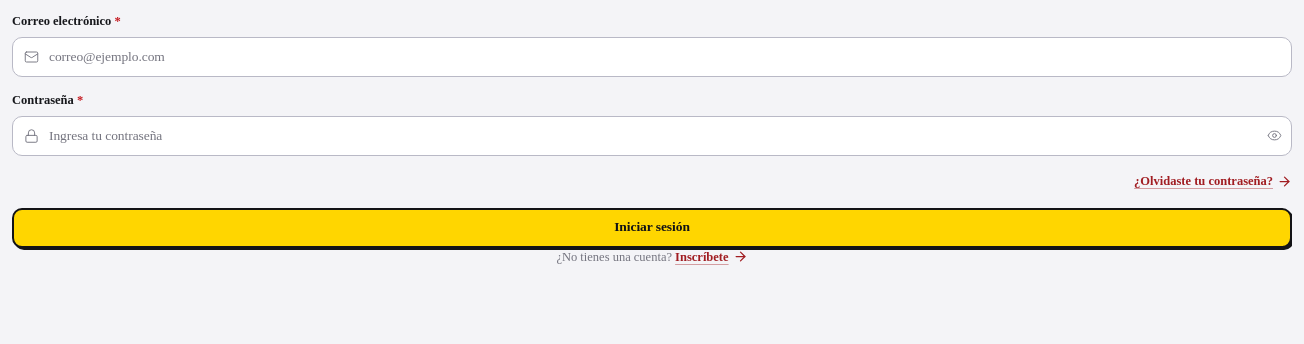
Test case: LoginPage › failed submission › names the problem and the recovery inline for a server failure, with no toast
The width and height of the screenshot is (1304, 344).
Type "user@cataclub.com" into the field labelled "Correo electrónico *".
click(652, 57); type("user@cataclub.com")  # box [12,37,1292,77]
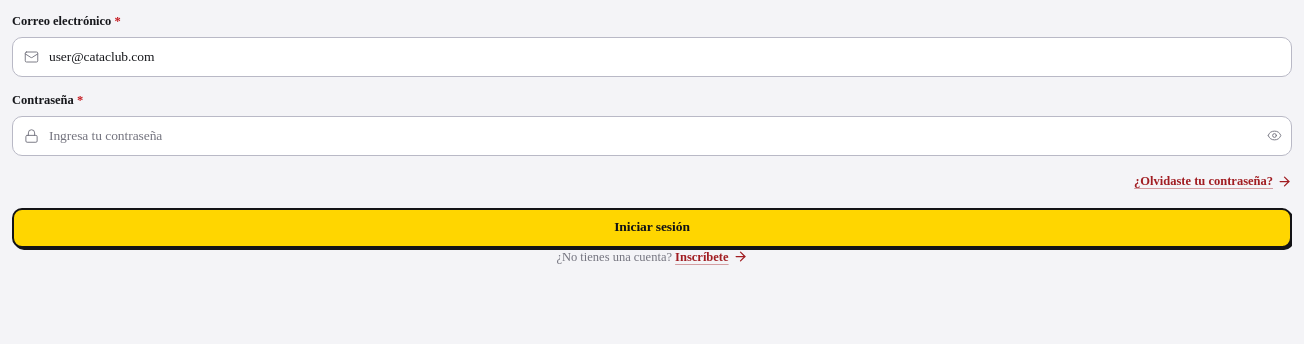
Type "secret123" into the password field labelled "Contraseña *".
click(652, 136); type("secret123")  # box [12,116,1292,156]
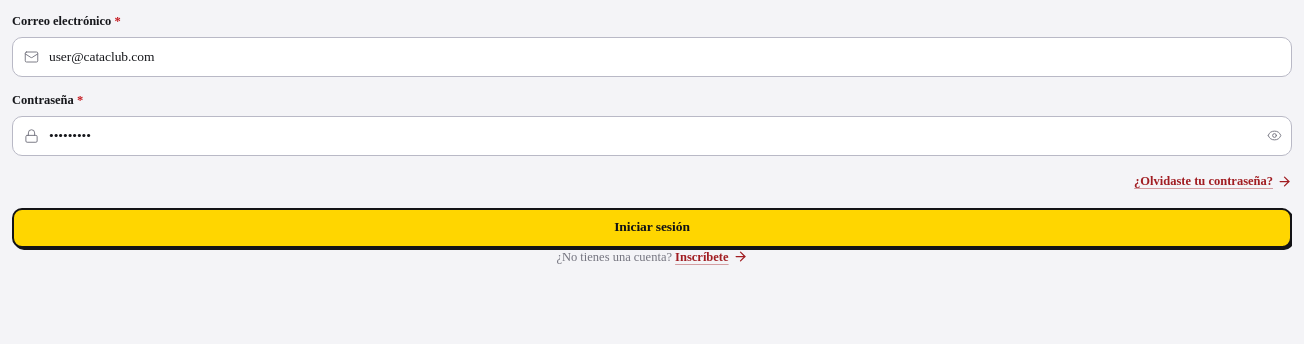
Click the button "Iniciar sesión".
click(652, 228)  # box [12,208,1292,248]
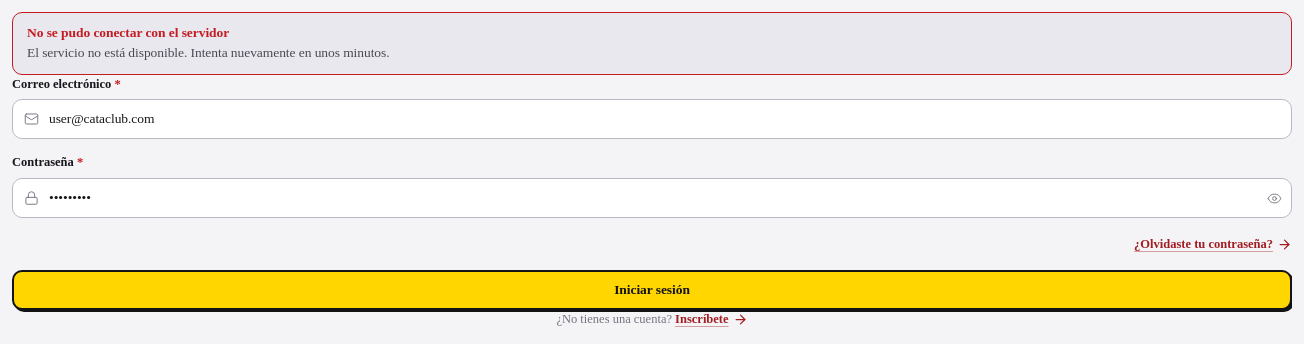
Result: the message with test id "login-failure" shows "No se pudo conectar con el servidor" at [27,25,229,40]
Result: the message with test id "login-failure" shows "El servicio no está disponible. Intenta nuevamente en unos minutos." at [27,45,390,60]
